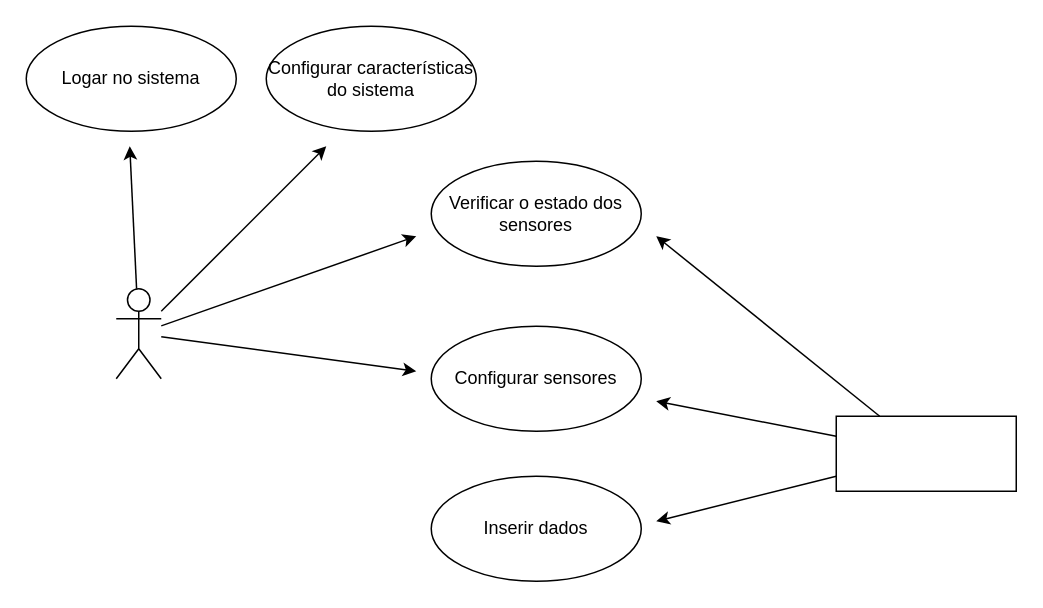
Image size: 1043x608. Some labels were removed from this diagram. The shapes that lost their labels are listed below. From the top down, each one's centre as x and y in pixels, then its label:
At (x=138, y=333): "Administrador do Sistema".
At (x=925, y=453): "Sensor".
